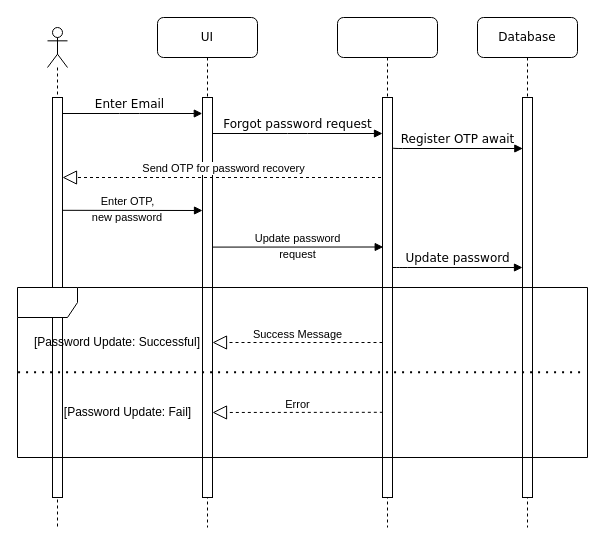
Image size: 605x545. Some labels were removed from this diagram. Here are the shapes that lost their labels. From the top down, the box of each, then its label:
(336, 16, 438, 528): Server
(16, 286, 588, 458): alt
